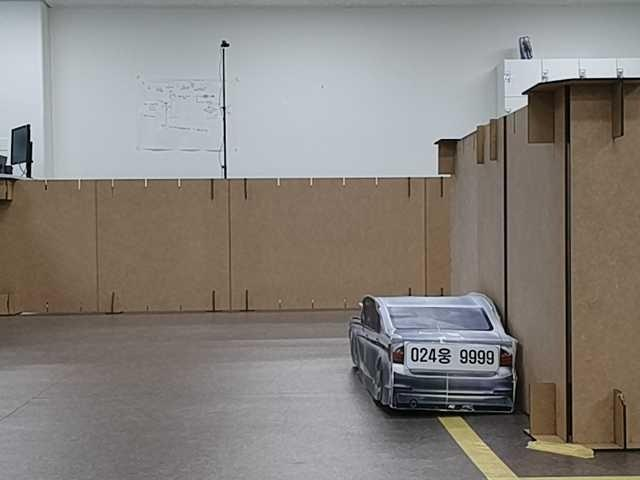car: (343, 288, 523, 420)
id: (402, 339, 501, 377)
